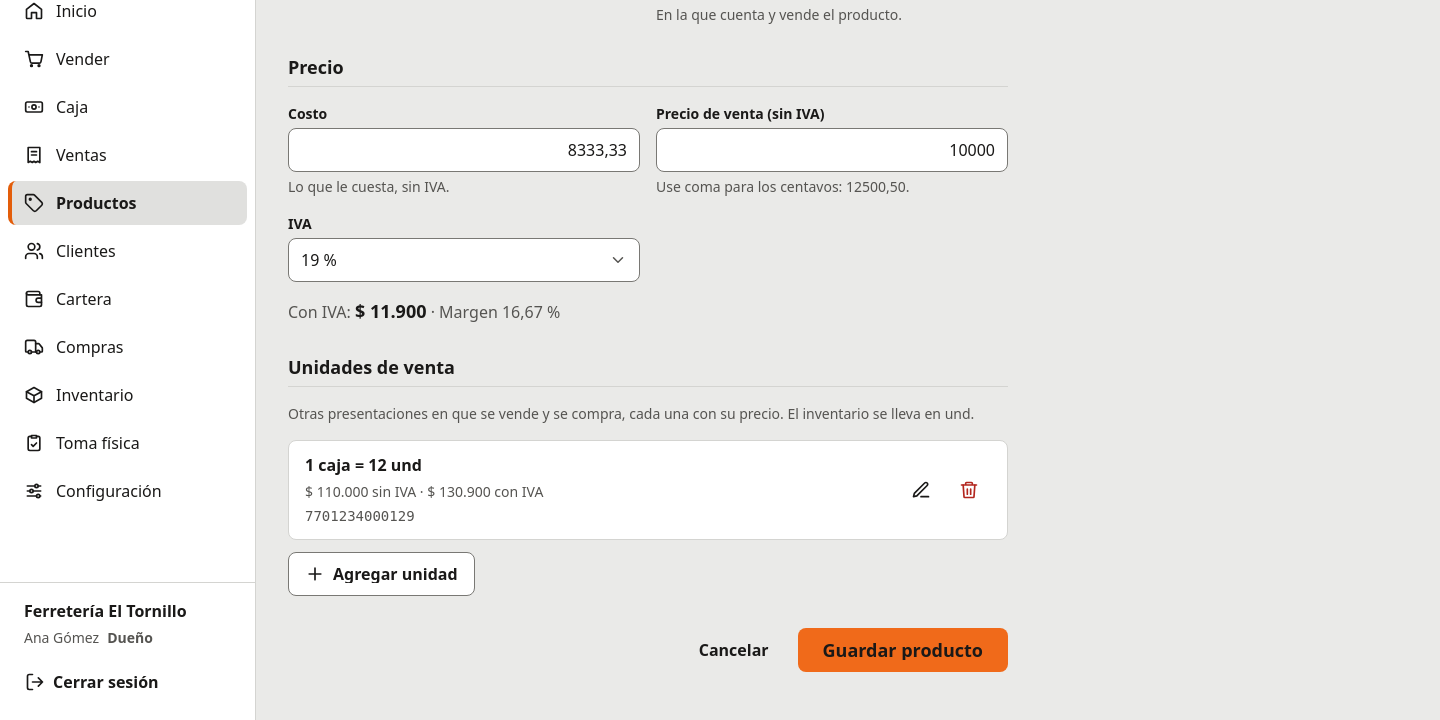
Test: ProductFormPage: unidades de venta › edita el precio de una unidad y la quita con DELETE
This screenshot has width=1440, height=720.
(page scrolled)
Click the button named "Editar caja".
click(921, 490)  # box [899,468,943,512]
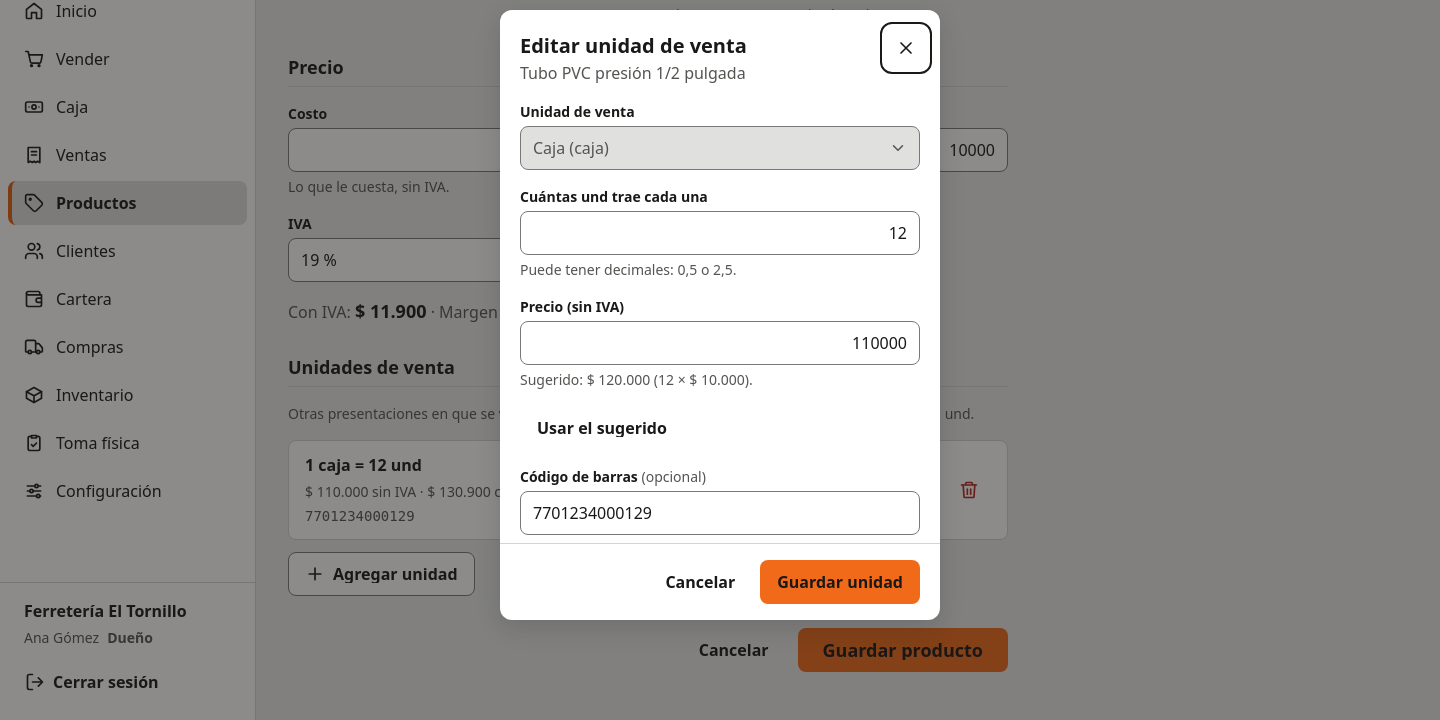
Check: the field labelled "Precio (sin IVA)" holds "110000"
Replace the text in the field labelled "Precio (sin IVA)" with "105000" at point(720, 343), box [520,321,920,365]
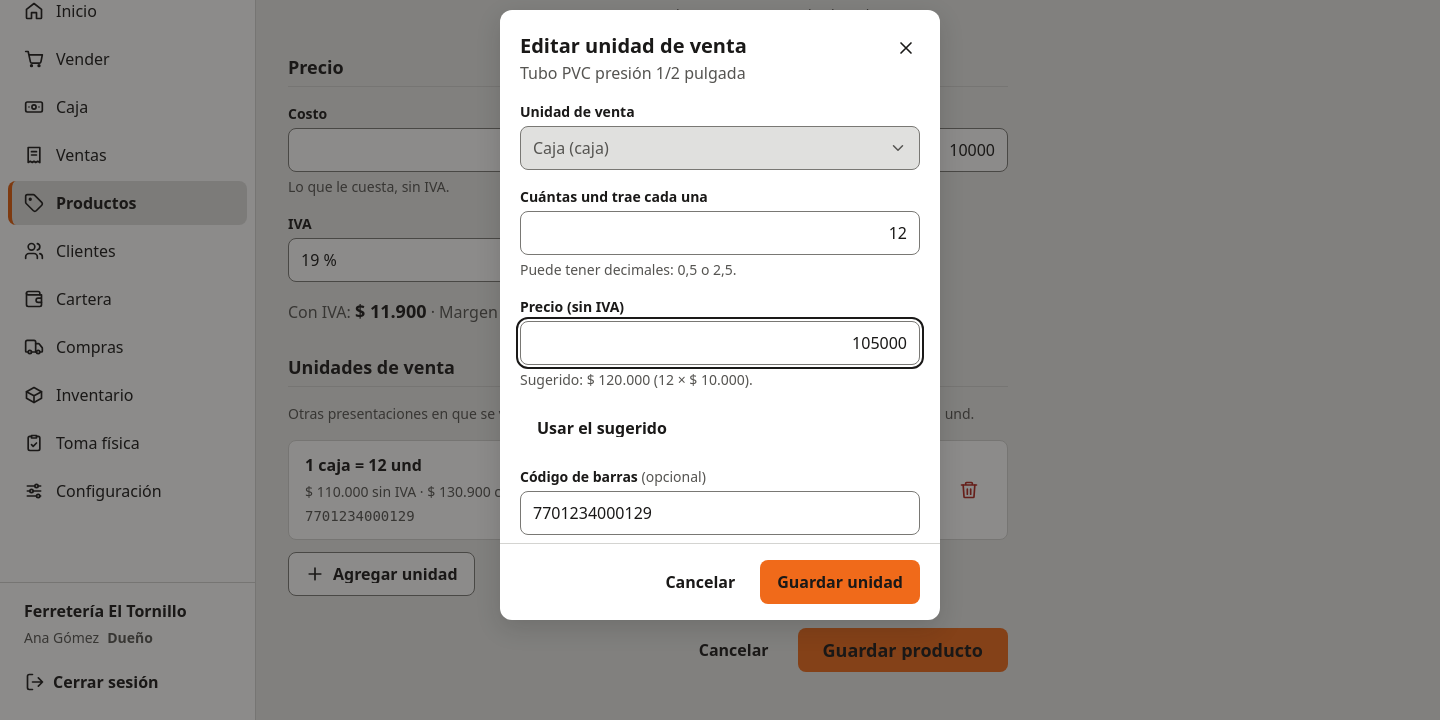
Click the button "Guardar unidad".
click(840, 582)  # box [760,560,920,604]
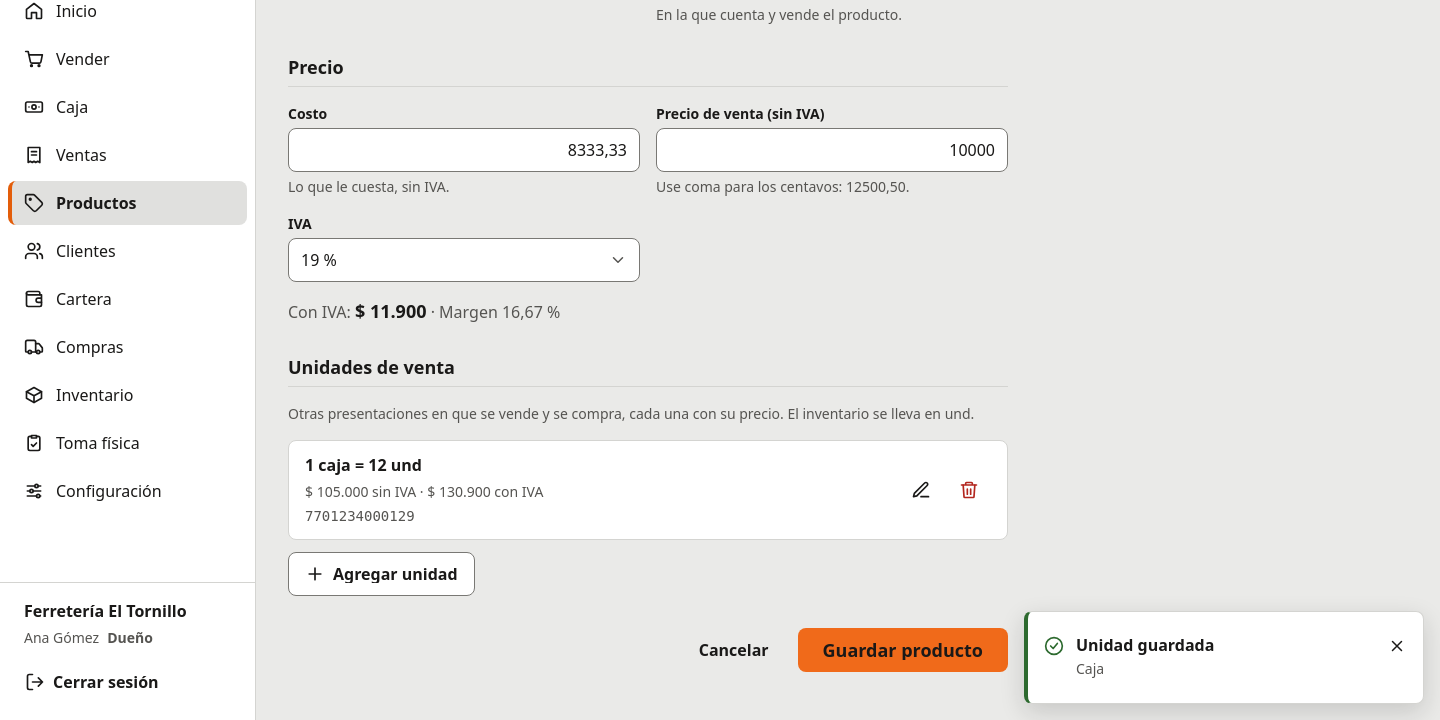
Click the button named "Quitar caja".
click(969, 490)  # box [947,468,991,512]
(page scrolled)
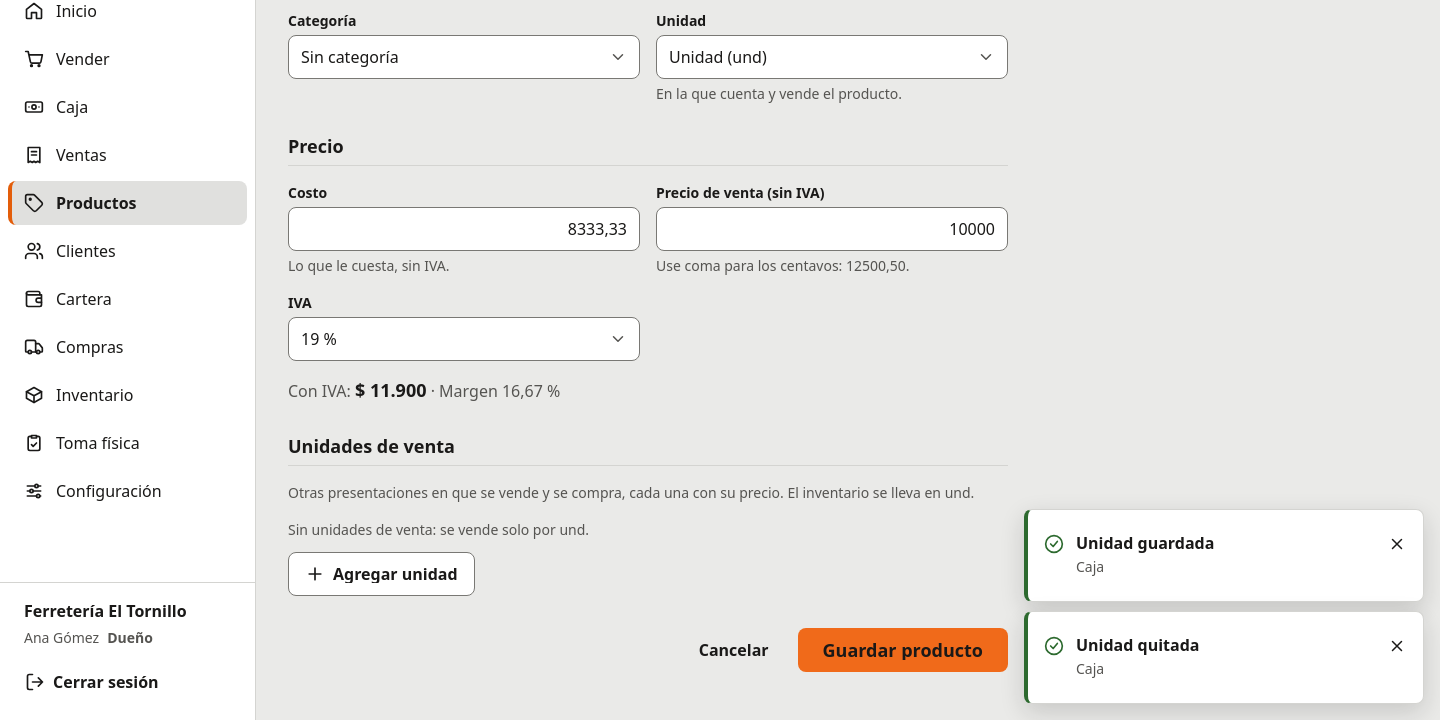
Check: the text "Sin unidades de venta: se vende solo por und." is shown, box [288,519,589,540]
